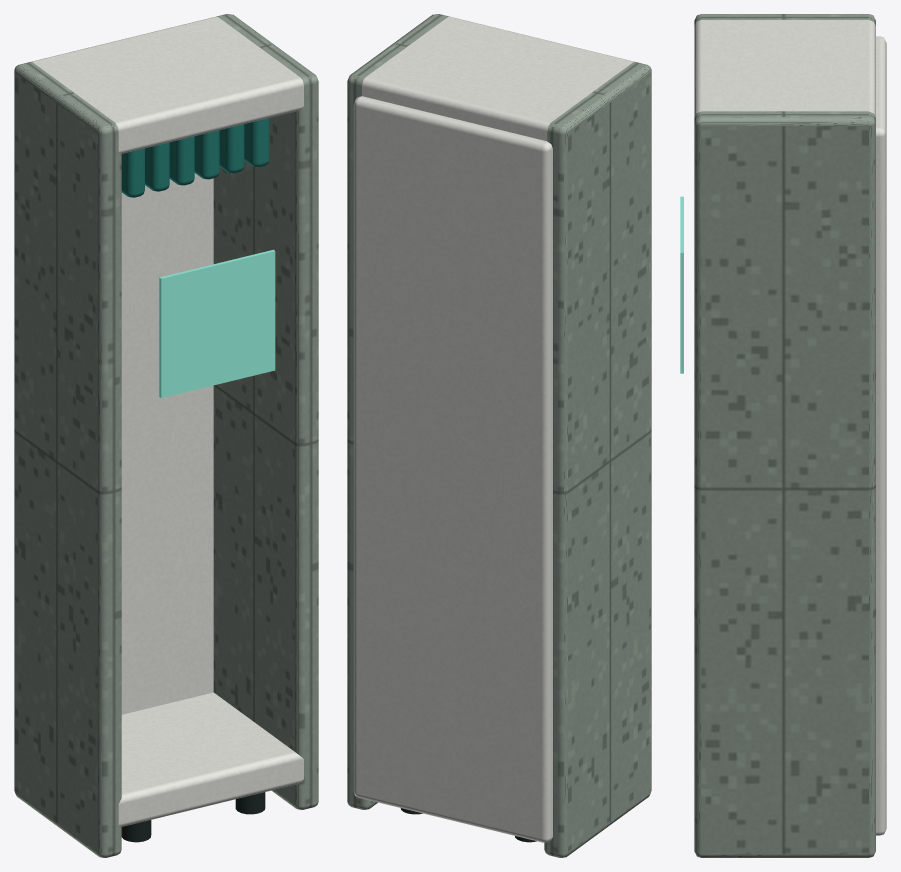
Rendered from detail-charging-1.glb.
3 renders of one model, left to right at view 1: azimuth 30°, elevation 25°; view 2: azimuth 150°, elevation 25°; view 3: azimuth 270°, elevation 25°, orthographic.
Parts seen in each view (by area): view 1: cabinet_side (×2), cabinet_back, cabinet_cap (×2), label_screen, power_bank (×6); view 2: cabinet_back, cabinet_side (×2), cabinet_cap; view 3: cabinet_side (×2), cabinet_cap, cabinet_back, label_screen.
Part boxes in pixels (x1=…): cabinet_side (×2): x1=14, y1=14, x2=318, y2=857; cabinet_back: x1=121, y1=173, x2=213, y2=714; cabinet_cap (×2): x1=31, y1=17, x2=303, y2=826; label_screen: x1=159, y1=249, x2=275, y2=398; power_bank (×6): x1=121, y1=118, x2=269, y2=197; cabinet_back: x1=353, y1=96, x2=552, y2=842; cabinet_side (×2): x1=347, y1=14, x2=651, y2=857; cabinet_cap: x1=362, y1=17, x2=634, y2=141; cabinet_side (×2): x1=694, y1=14, x2=875, y2=857; cabinet_cap: x1=694, y1=20, x2=875, y2=117; cabinet_back: x1=876, y1=36, x2=886, y2=835; label_screen: x1=680, y1=196, x2=683, y2=373.
Bounding box in the file's own units: 0.425 × 1.35 × 0.3405.
5 materials, 4 textured.
